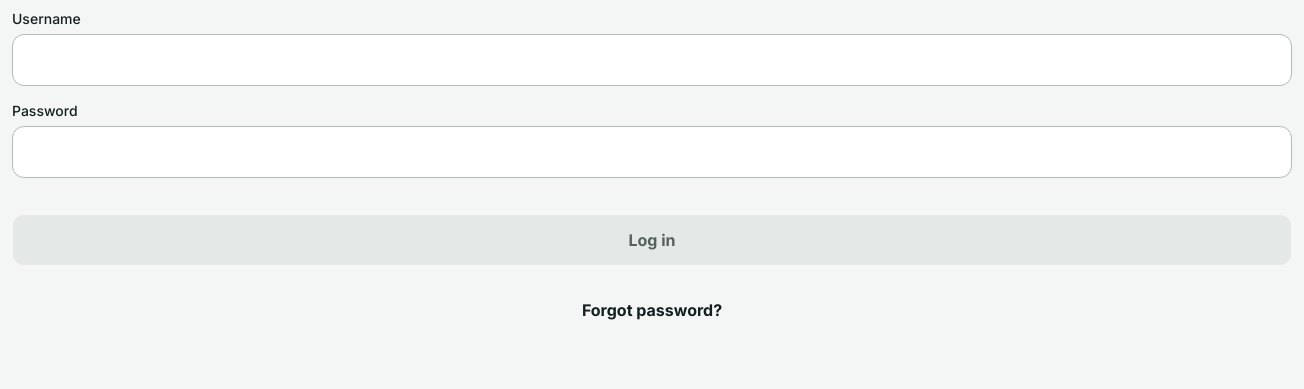
LoginForm › shows the error text from the API and clears the password (invalid input)
In the field labelled "Username": (652, 60) [12,34,1292,86], type "bb-4k7q2m"
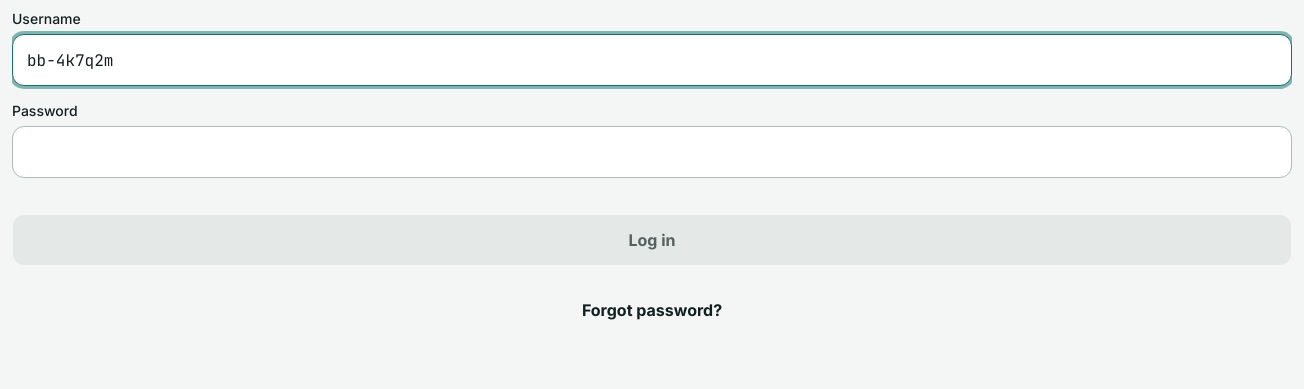
In the password field labelled "Password": (652, 152) [12,126,1292,178], type "wrong-password"
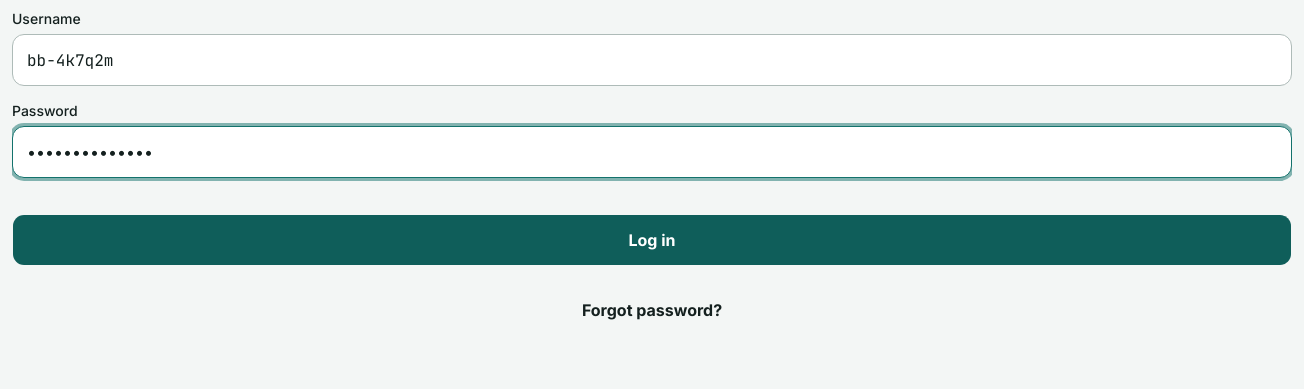
Click the button "Log in": (652, 240) [12,214,1292,266]
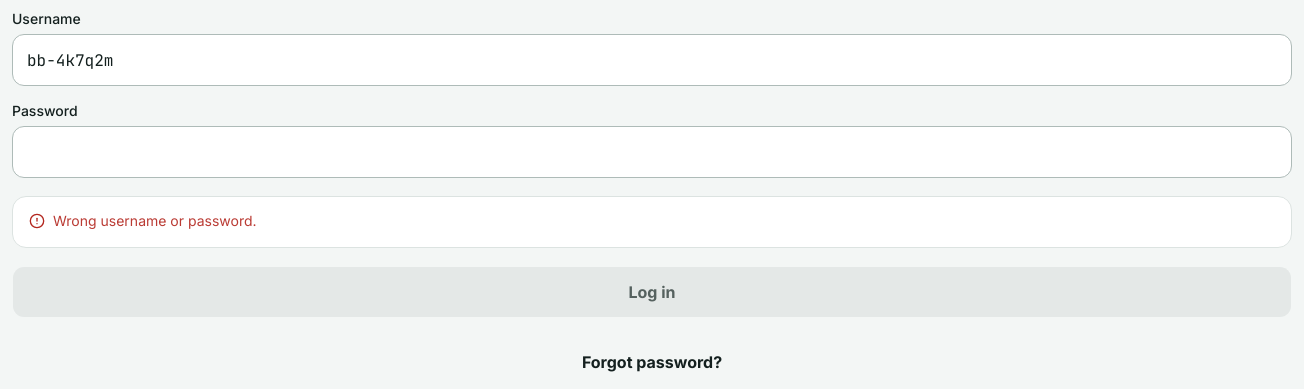
Check: the text "Wrong username or password." is shown, box [53,212,257,229]
Check: the password field labelled "Password" is empty, box [12,126,1292,178]
